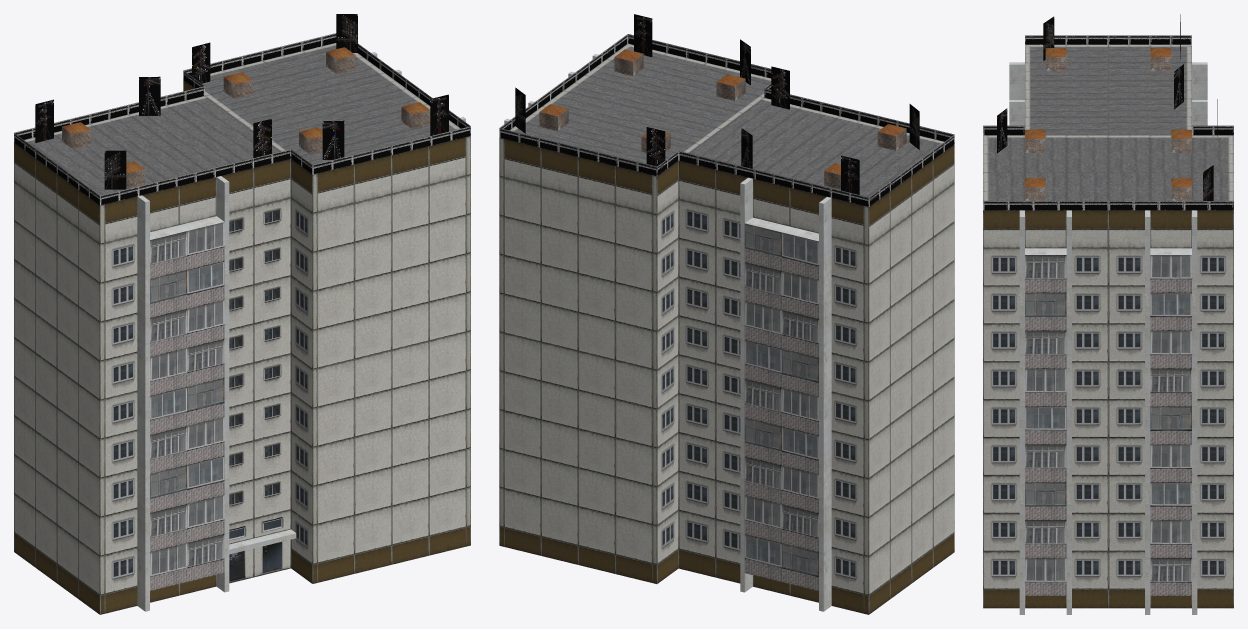
The model's file is rus_build_9et_01a.fbx.
3 views of the same model, side by side, from view 1: azimuth 30°, elevation 25°; view 2: azimuth 150°, elevation 25°; view 3: azimuth 270°, elevation 25° (orthographic). The views are drawn at different scales.
Visible parts, largest first — view 1: Regroup13, rus_build_dec_01; view 2: Regroup13, rus_build_dec_01; view 3: Regroup13, rus_build_dec_01.
Boxes of the visible parts, <box> form: Regroup13: <box>14,43,470,614</box>; rus_build_dec_01: <box>14,14,470,205</box>; Regroup13: <box>499,43,954,614</box>; rus_build_dec_01: <box>499,14,954,206</box>; Regroup13: <box>983,44,1233,614</box>; rus_build_dec_01: <box>983,14,1233,210</box>.
Size of the model in its own units: 2730 by 3220 by 1680.
